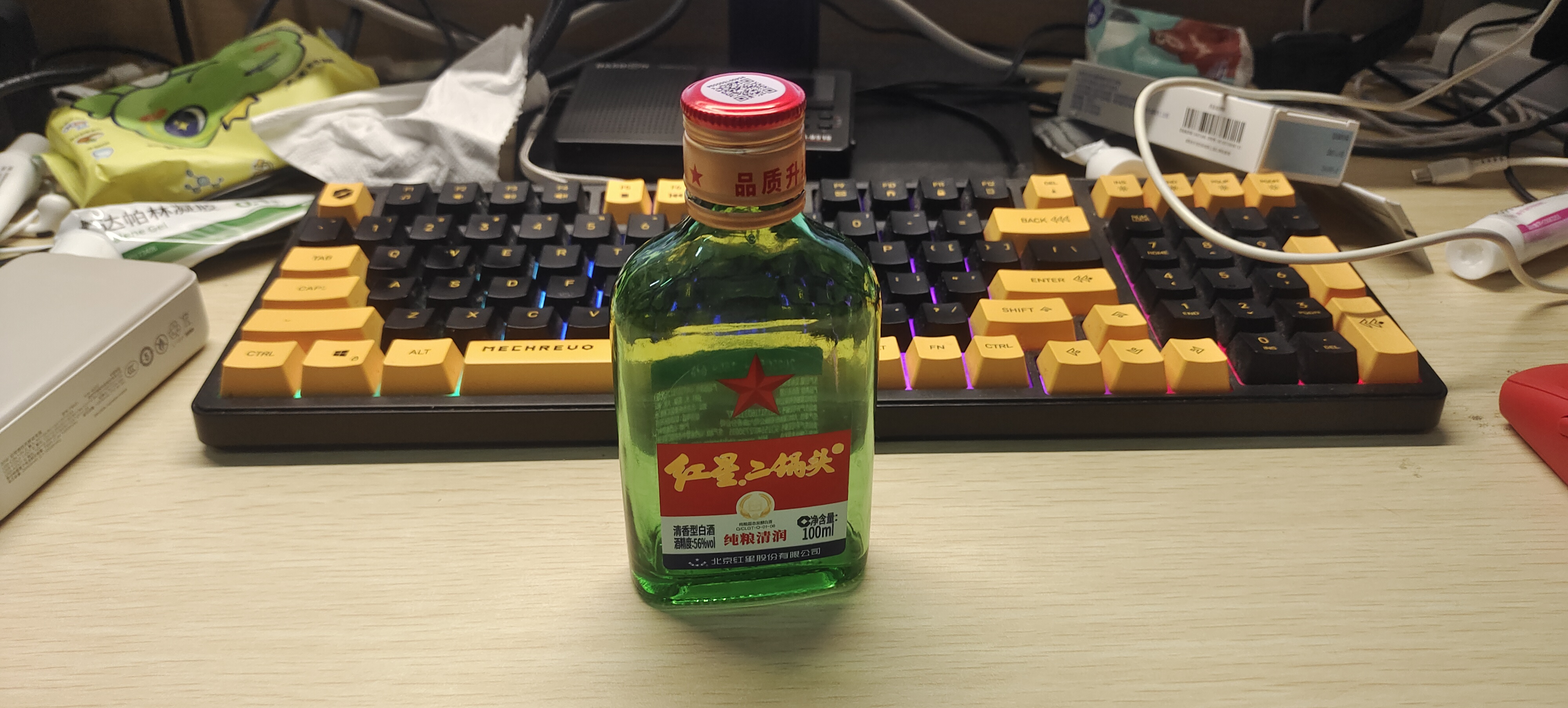redbull: (612, 55, 906, 643)
